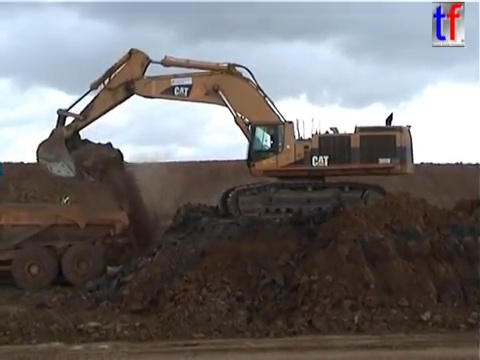excavator: (33, 45, 417, 225)
truck: (1, 199, 130, 291)
worker: (57, 189, 73, 217)
